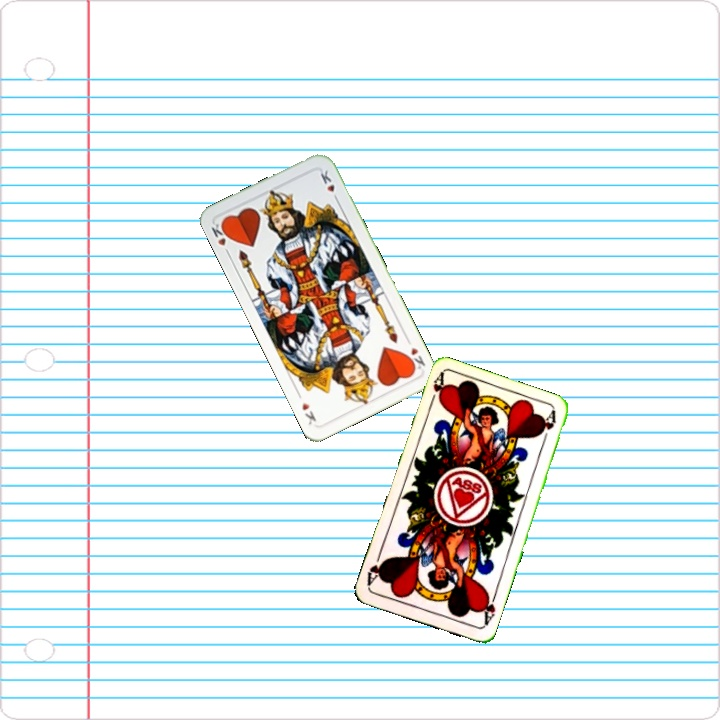HA: (425, 370, 448, 410), (477, 588, 499, 628)
HK: (207, 217, 233, 258), (403, 343, 428, 373)
